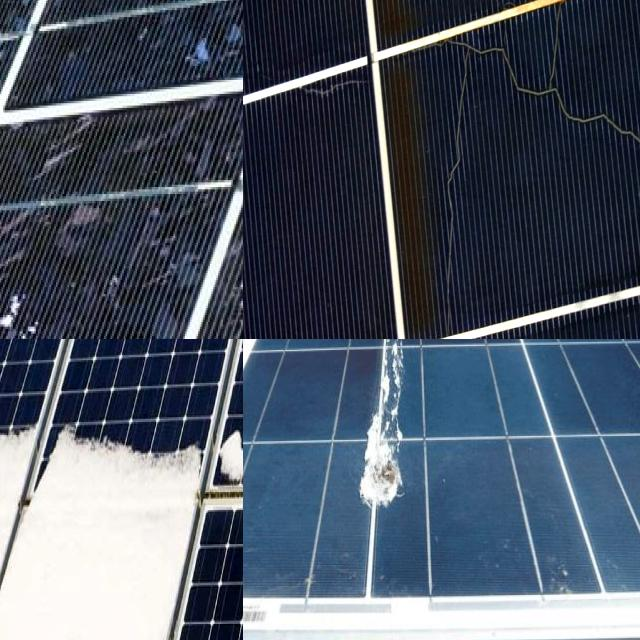bird: (358, 339, 419, 520)
panel: (42, 390, 127, 480), (48, 511, 176, 564), (121, 417, 204, 487), (0, 373, 29, 487), (221, 428, 243, 528)
shadow: (499, 32, 640, 252), (424, 59, 478, 327), (272, 70, 372, 112), (466, 0, 505, 68)
